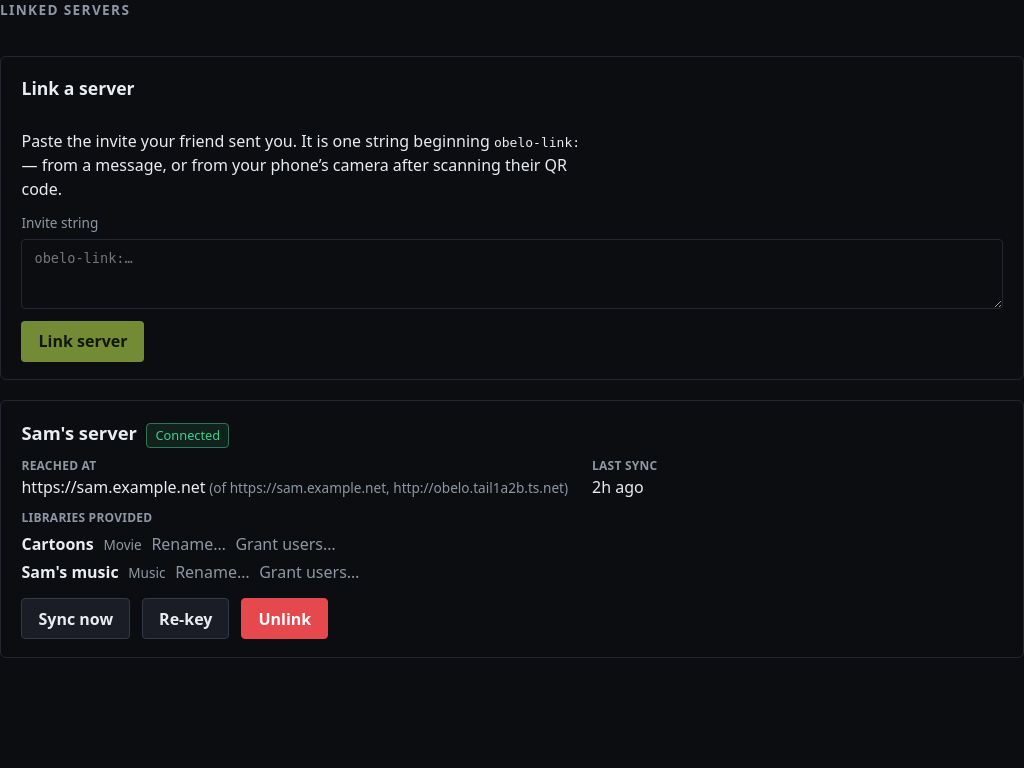
AdminLinkedServersScreen — renaming a linked library › keeps what was typed when the server refuses, and reports why
The width and height of the screenshot is (1024, 768).
expect the list item with test id "link-row" is shown: met, box [0, 400, 1023, 658]
Click the button with test id "link-library-rename-toggle" in the row of "Cartoons" at (189, 544), box [151, 532, 226, 556]
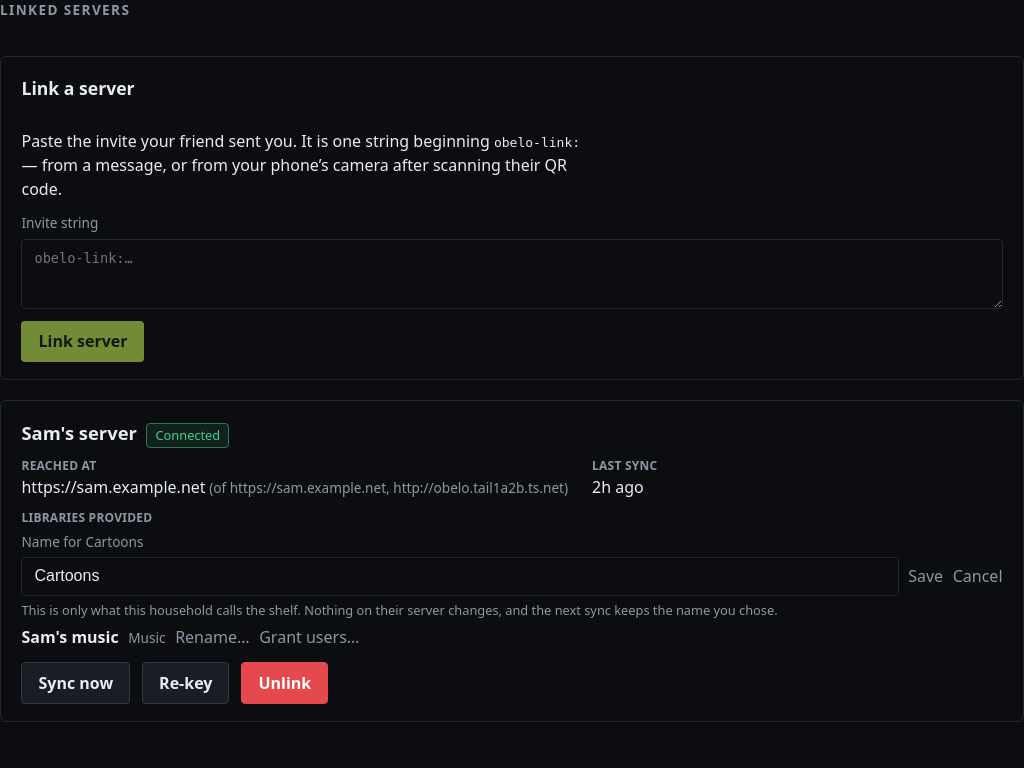
Replace the text in the field with test id "link-library-rename-input" with "Saturday morning" at (460, 576), box [22, 557, 899, 596]
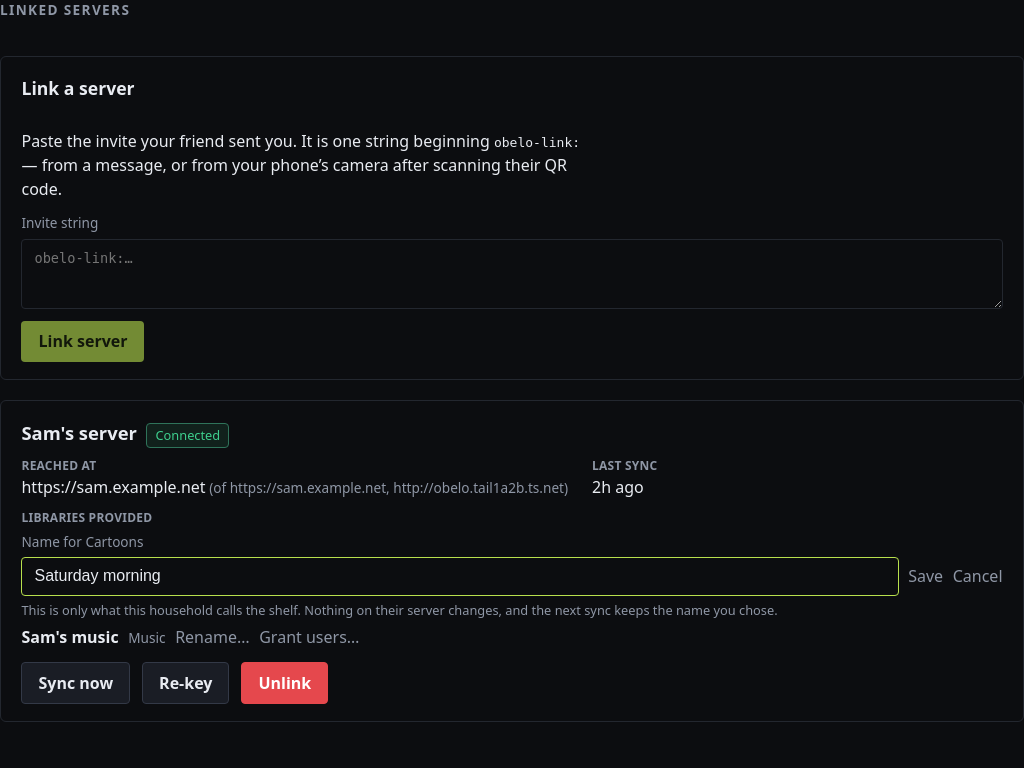
Click the button with test id "link-library-rename-save" at (926, 576), box [908, 564, 943, 588]
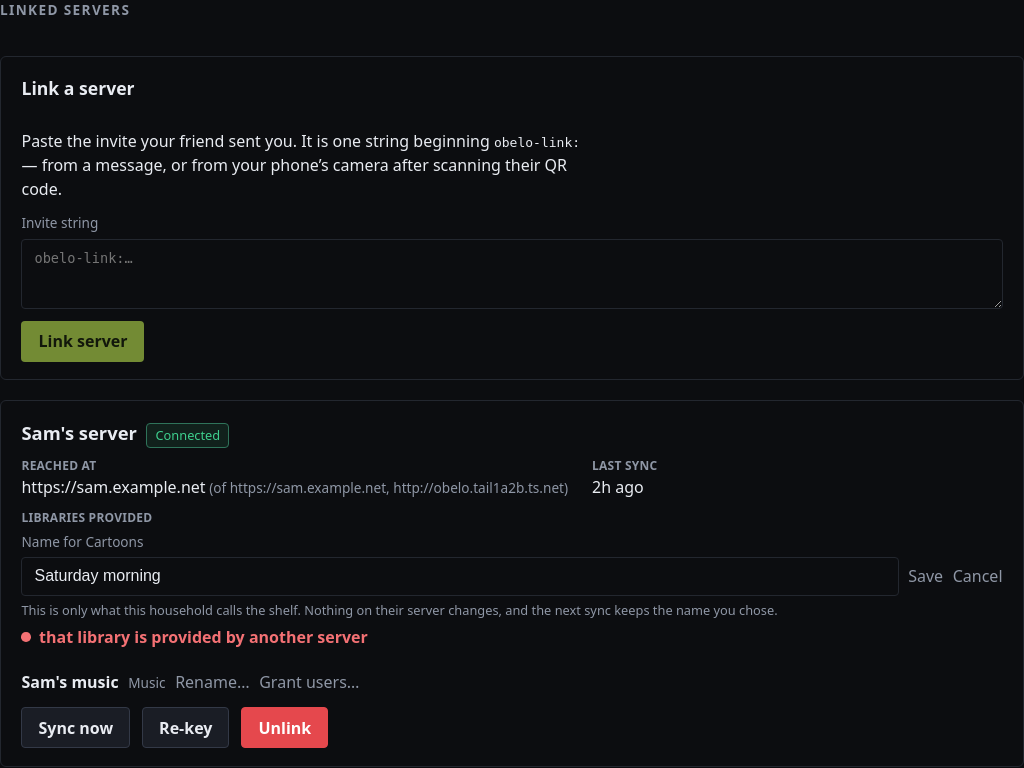
expect the message with test id "link-library-rename-error" shows "provided by another server": met, box [39, 626, 368, 648]
